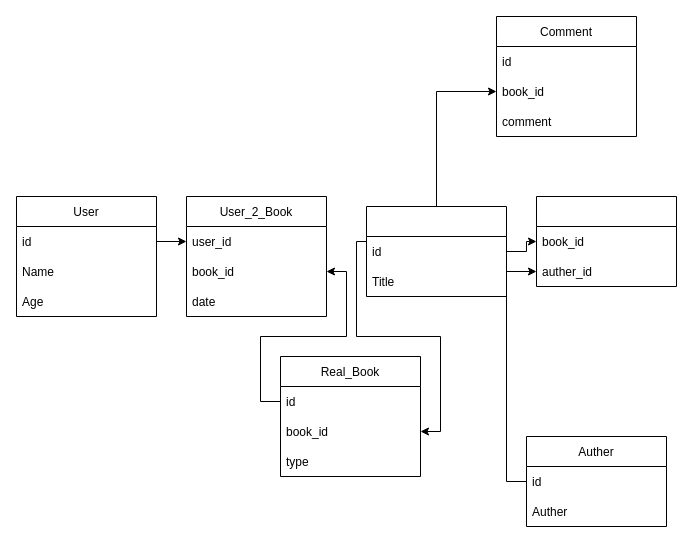
The diagram is 693 pixels wide and 543 high, and some of its shapes have lost their labels. The box of each missing label's shape, as (x1, y1, x2, y2) in pixels:
Book: (366, 206, 506, 296)
Book_2_Auther: (536, 196, 676, 286)
